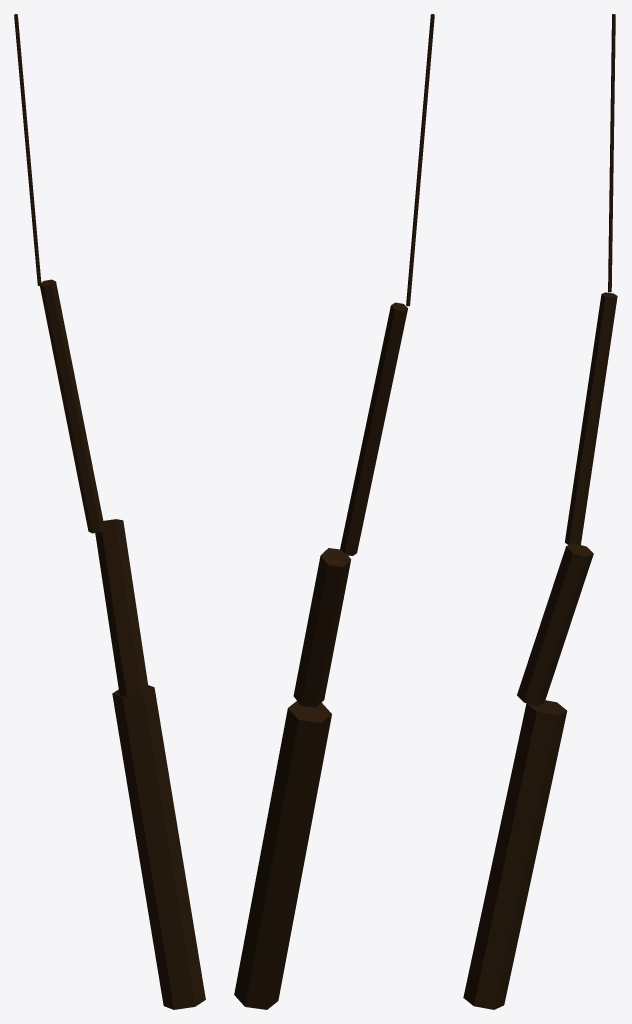
The model's file is 2022_tree_553_no_leaf.obj.
The picture shows the model from 3 angles, left to right: view 1: azimuth 30°, elevation 25°; view 2: azimuth 210°, elevation 25°; view 3: azimuth 270°, elevation 25°; orthographic projection. The views are drawn at different scales.
Parts seen in each view (by area): view 1: TrunkAndBranches; view 2: TrunkAndBranches; view 3: TrunkAndBranches.
Part boxes in pixels (<box>): TrunkAndBranches: <box>14,14,205,1009</box>; TrunkAndBranches: <box>234,14,434,1009</box>; TrunkAndBranches: <box>463,14,617,1009</box>.
Bounding box in the file's own units: 0.1792 × 1.39 × 0.2058.
